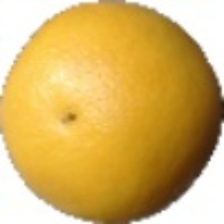grapes: (0, 26, 201, 168)
